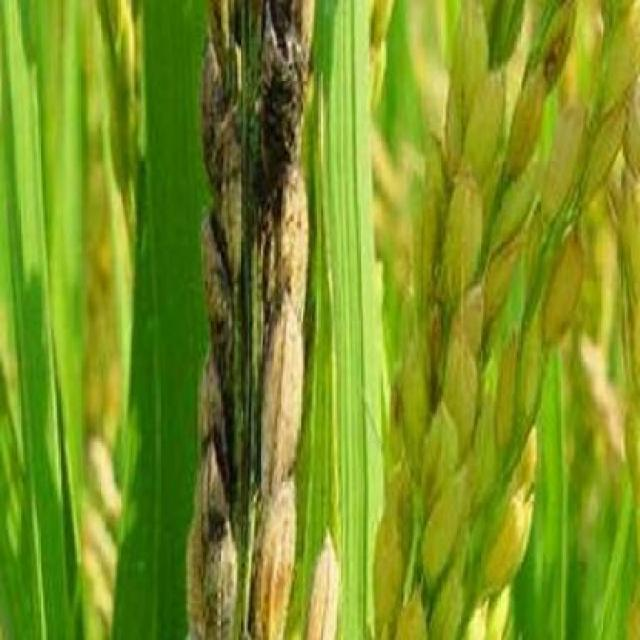rice-bug: (259, 17, 318, 205)
